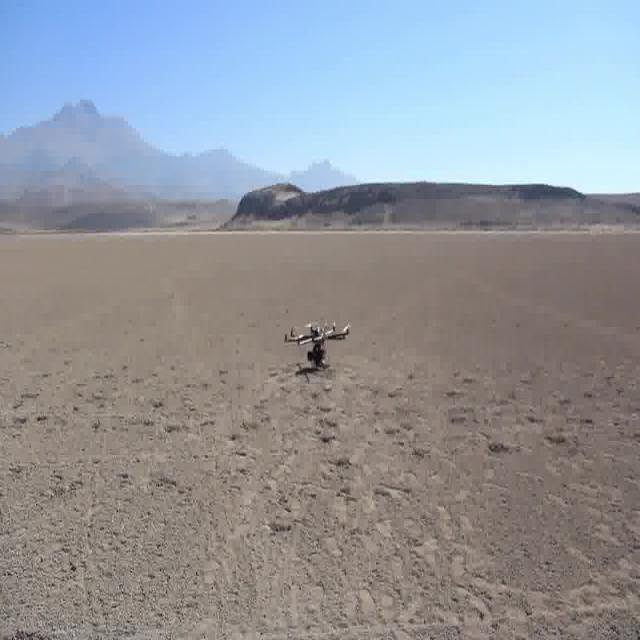drone: (282, 307, 360, 389)
